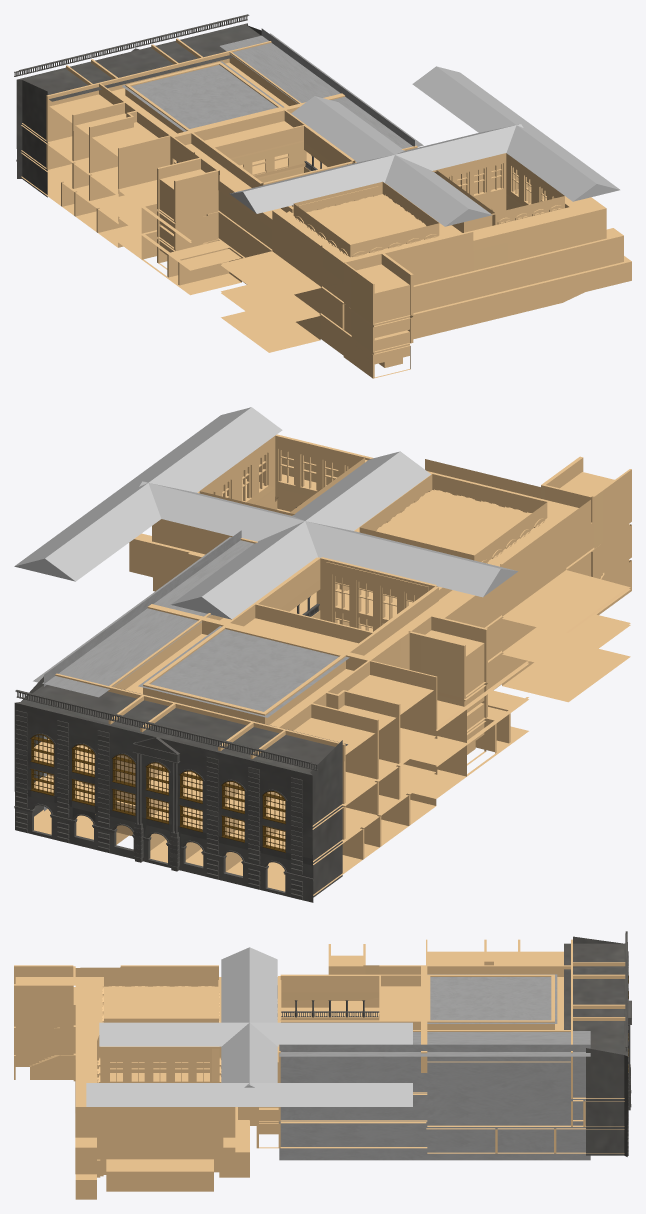
The model's file is 26_04_2020_ventanas.fbx.
3 renders of one model, top to bottom at view 1: azimuth 30°, elevation 25°; view 2: azimuth 150°, elevation 25°; view 3: azimuth 270°, elevation 25°, orthographic. The views are drawn at different scales.
Parts seen in each view (by area): view 1: claustro, claustro.002, Plane, Cube.030, Cube; view 2: claustro, Cube.030, claustro.002, Plane, Cube.001, Cube; view 3: claustro, Plane, claustro.002, Cube.030, Cube.
Boxes of the visible parts, x1,y1,x2,y2 form: claustro: (21,38,631,378); claustro.002: (229,66,619,226); Plane: (122,28,423,148); Cube.030: (16,23,261,197); Cube: (14,14,317,170); claustro: (34,434,631,895); Cube.030: (14,676,347,902); claustro.002: (14,407,517,619); Plane: (33,530,349,811); Cube.001: (30,734,285,852); Cube: (15,603,319,770); claustro: (14,939,625,1199); Plane: (279,974,590,1160); claustro.002: (86,947,412,1106); Cube.030: (564,936,631,1156); Cube: (281,931,627,1051).
Size of the model in its own units: 13115 by 4287 by 19929.
